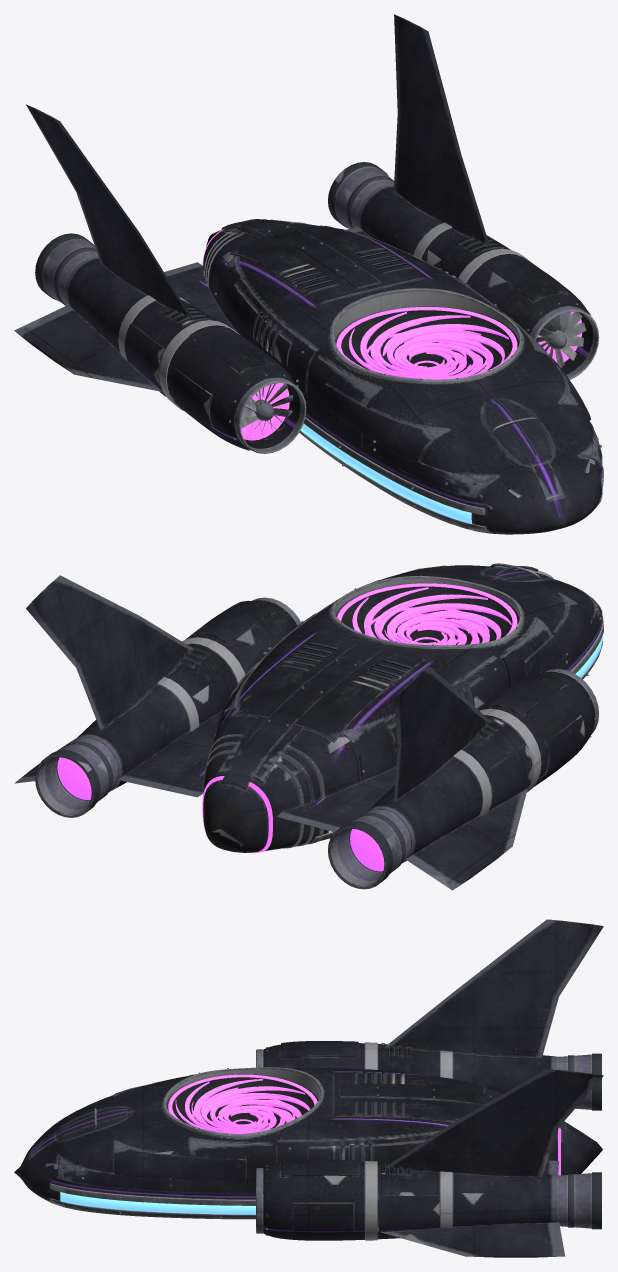
Rendered from oblivion.glb.
The picture shows the model from 3 angles, top to bottom: view 1: azimuth 30°, elevation 25°; view 2: azimuth 150°, elevation 25°; view 3: azimuth 270°, elevation 25°; orthographic projection. The views are drawn at different scales.
Parts seen in each view (by area): view 1: oblivion_body, oblivion_emissive, spin_eye, canopy, spin_eye_mid, fan_L, spin_eye_inner, fan_R; view 2: oblivion_body, oblivion_emissive, spin_eye, spin_eye_mid, spin_eye_inner, canopy; view 3: oblivion_body, oblivion_emissive, spin_eye, spin_eye_mid, canopy, spin_eye_inner.
Part boxes in pixels (box(x1,y1,x2,y2)): oblivion_body: box(14, 14, 603, 534); oblivion_emissive: box(202, 229, 603, 523); spin_eye: box(345, 312, 508, 379); canopy: box(483, 397, 553, 465); spin_eye_mid: box(364, 322, 489, 379); fan_L: box(536, 311, 586, 367); spin_eye_inner: box(387, 338, 466, 373); fan_R: box(240, 383, 292, 443); oblivion_body: box(14, 563, 603, 890); oblivion_emissive: box(57, 583, 603, 871); spin_eye: box(352, 587, 511, 643); spin_eye_mid: box(364, 599, 489, 644); spin_eye_inner: box(384, 613, 469, 645); canopy: box(483, 565, 552, 581); oblivion_body: box(14, 919, 603, 1257); oblivion_emissive: box(60, 1074, 560, 1214); spin_eye: box(175, 1079, 310, 1132); spin_eye_mid: box(191, 1087, 295, 1133); canopy: box(55, 1105, 132, 1140); spin_eye_inner: box(211, 1101, 275, 1129).
Size of the model in its own units: 3.36 by 1.7 by 4.71.
5 materials, 2 textured.
